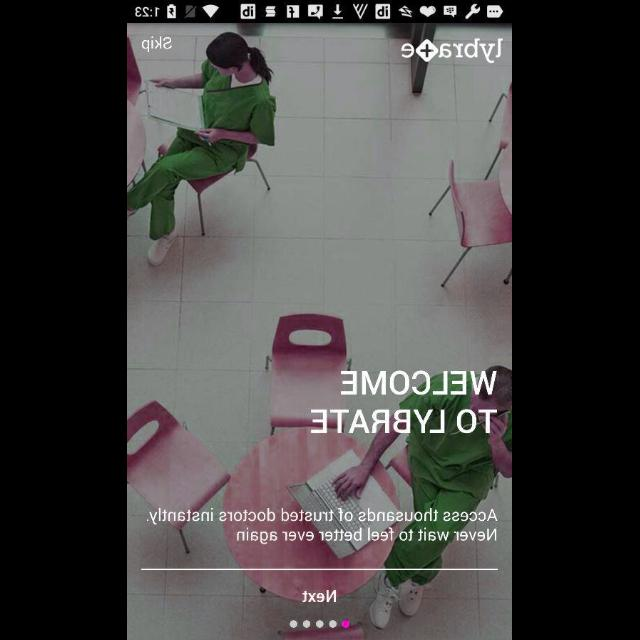backgroundimage: (128, 24, 512, 640)
image: (402, 38, 504, 64)
pageindicator: (289, 619, 351, 629)
text: (147, 508, 498, 544), (310, 371, 498, 435), (141, 36, 173, 54), (301, 589, 337, 603)
uppertaskbar: (128, 1, 512, 23)
